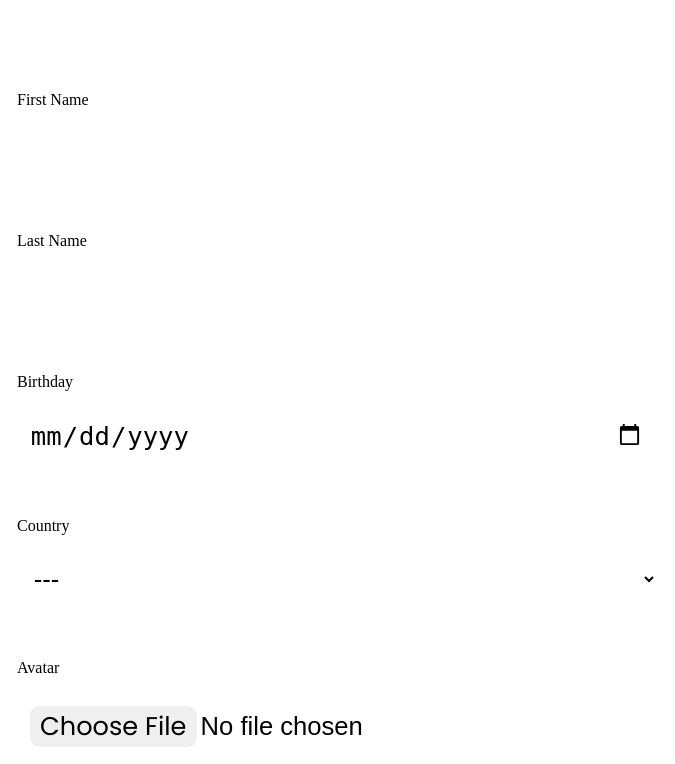
Test: when typing in Form inputs › should allow user to change birthday date
This screenshot has width=675, height=764.
Step 1. Type "1980-01-01" into the date field with test id "birthday" → (337, 436), box [17,407,657,465]
(page scrolled)
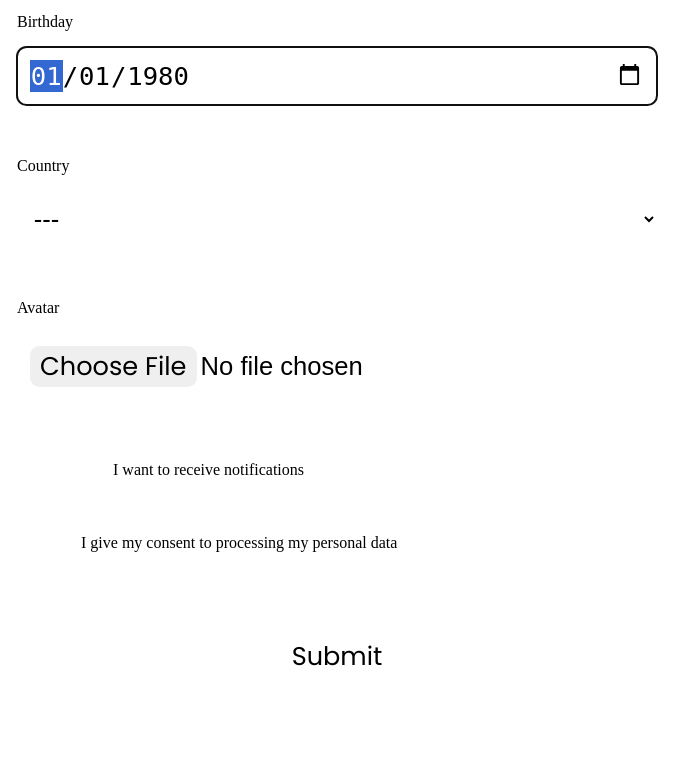
Expected: the button with test id "submit-button" is enabled, [17,617,657,696]
